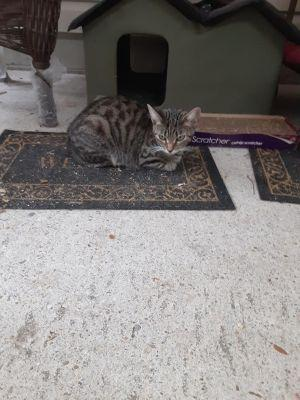bengal: (144, 98, 203, 158)
